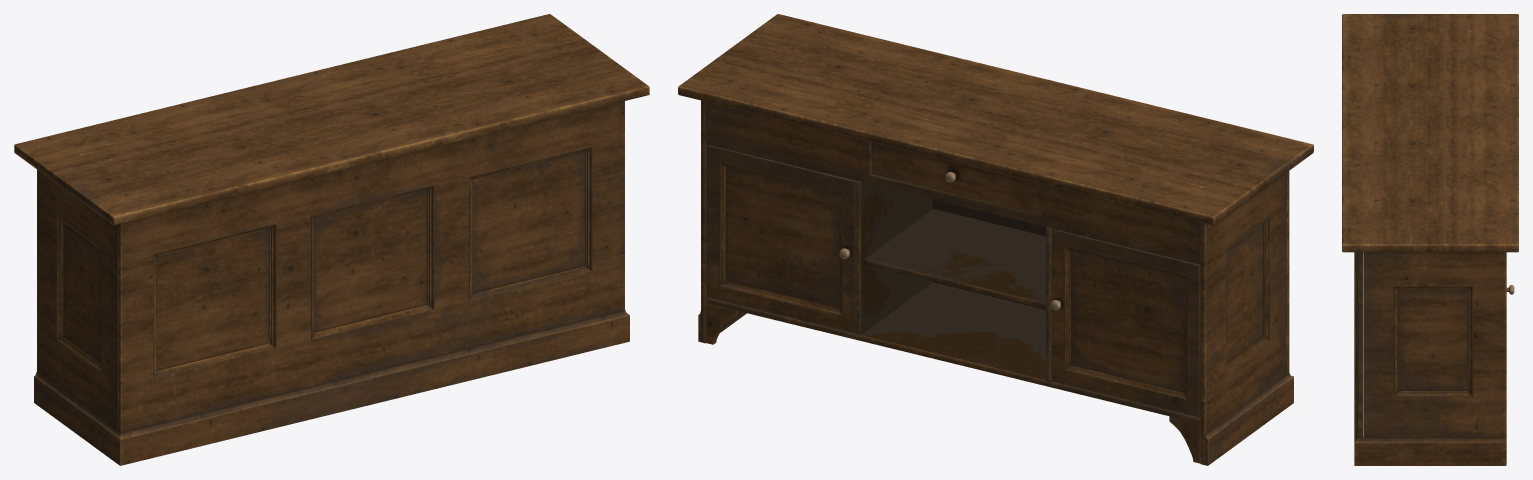
File: counter.glb
3 renders of one model, left to right at view 1: azimuth 30°, elevation 25°; view 2: azimuth 150°, elevation 25°; view 3: azimuth 270°, elevation 25°, orthographic. The views are drawn at different scales.
Parts seen in each view (by area): view 1: Plane; view 2: Plane; view 3: Plane.
Part boxes in pixels (x1=…): Plane: x1=14, y1=14, x2=649, y2=465; Plane: x1=678, y1=14, x2=1313, y2=465; Plane: x1=1342, y1=14, x2=1518, y2=465.
Size of the model in its own units: 4342 by 1987 by 1403.
Materials: 2 (2 with a texture image).
